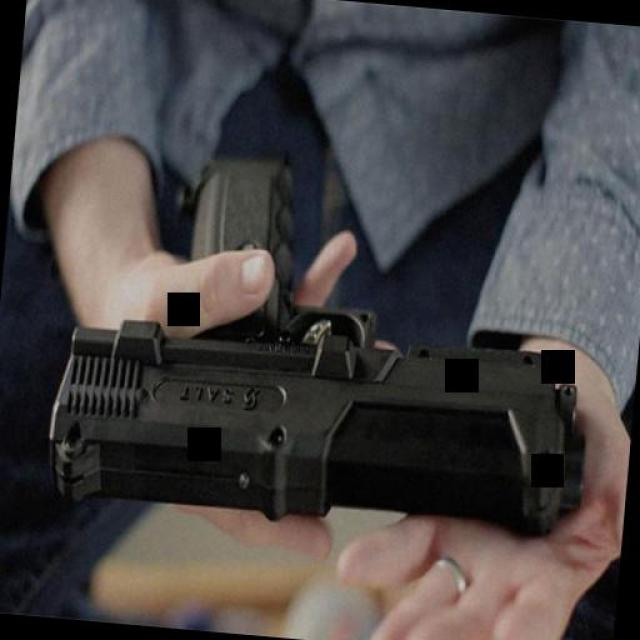gun: (38, 131, 612, 555)
